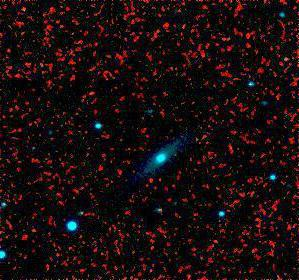star: (77, 79, 107, 109)
